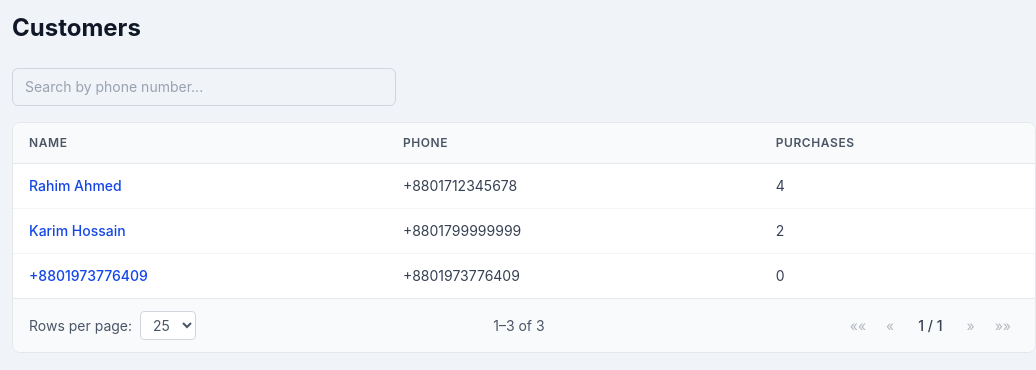
Test case: CustomersPage › Customer List › shows empty message when no customers match search
The width and height of the screenshot is (1036, 370).
Expected: the button "Rahim Ahmed" is shown, left=29, top=176, right=122, bottom=196
Step 1. Type "nonexistent" into the field named "Search customers by phone number" → (204, 87), box left=12, top=68, right=396, bottom=106
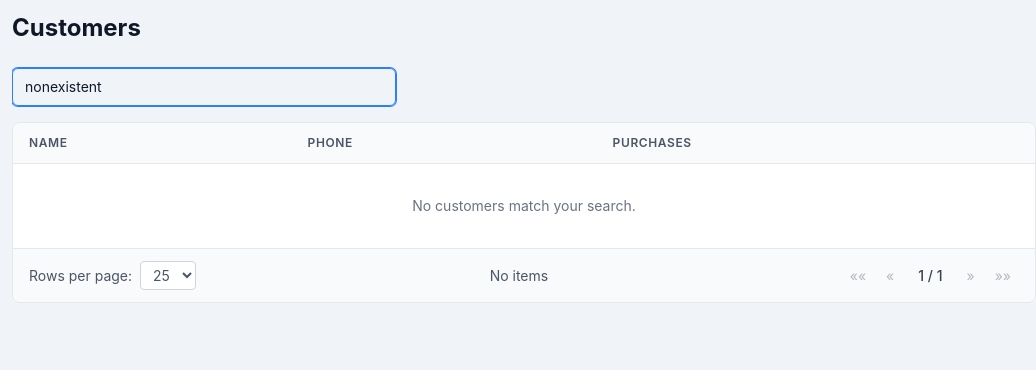
Now the text "No customers match your search." is shown, box left=13, top=164, right=1035, bottom=248
